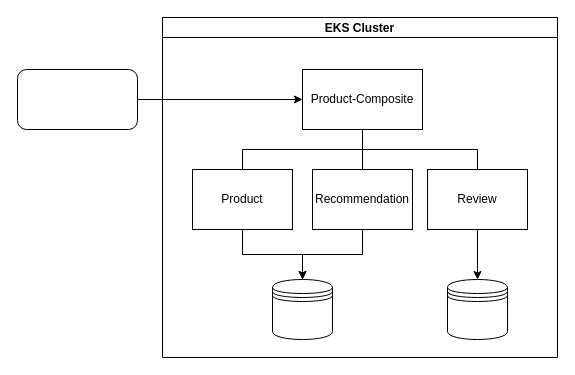
Some shapes in this 575 by 375 pixel diagram are drawn without their labels. Each missing label, with the centre of its shape:
"Client" belongs at (x=77, y=99).
"Mongo" belongs at (x=302, y=309).
"MySql" belongs at (x=477, y=309).
